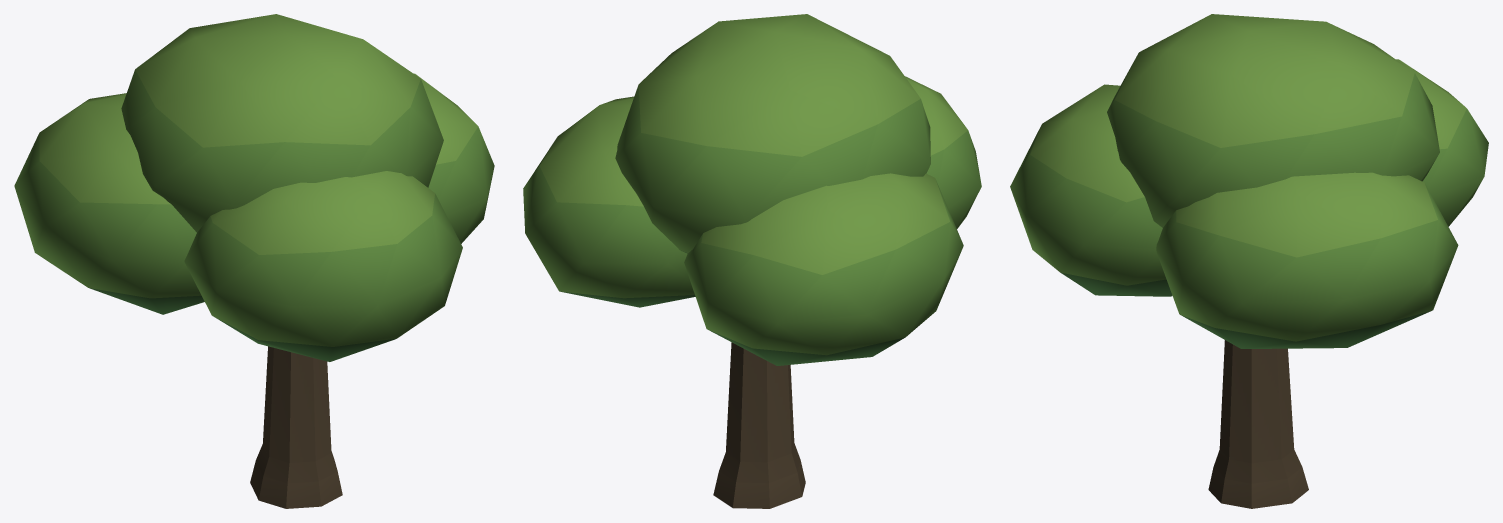
File: SM_Tree_Oak_Medium01.fbx
The picture shows the model from 3 angles, left to right: view 1: azimuth 30°, elevation 25°; view 2: azimuth 150°, elevation 25°; view 3: azimuth 270°, elevation 25°; orthographic projection.
Visible parts, largest first — view 1: SM_Tree_Oak_Medium01; view 2: SM_Tree_Oak_Medium01; view 3: SM_Tree_Oak_Medium01.
Boxes of the visible parts, <box> form: SM_Tree_Oak_Medium01: <box>14,14,494,508</box>; SM_Tree_Oak_Medium01: <box>523,14,981,508</box>; SM_Tree_Oak_Medium01: <box>1010,14,1488,508</box>.
Bounding box in the file's own units: 15.01 × 15.95 × 15.3.
1 material, 1 textured.
